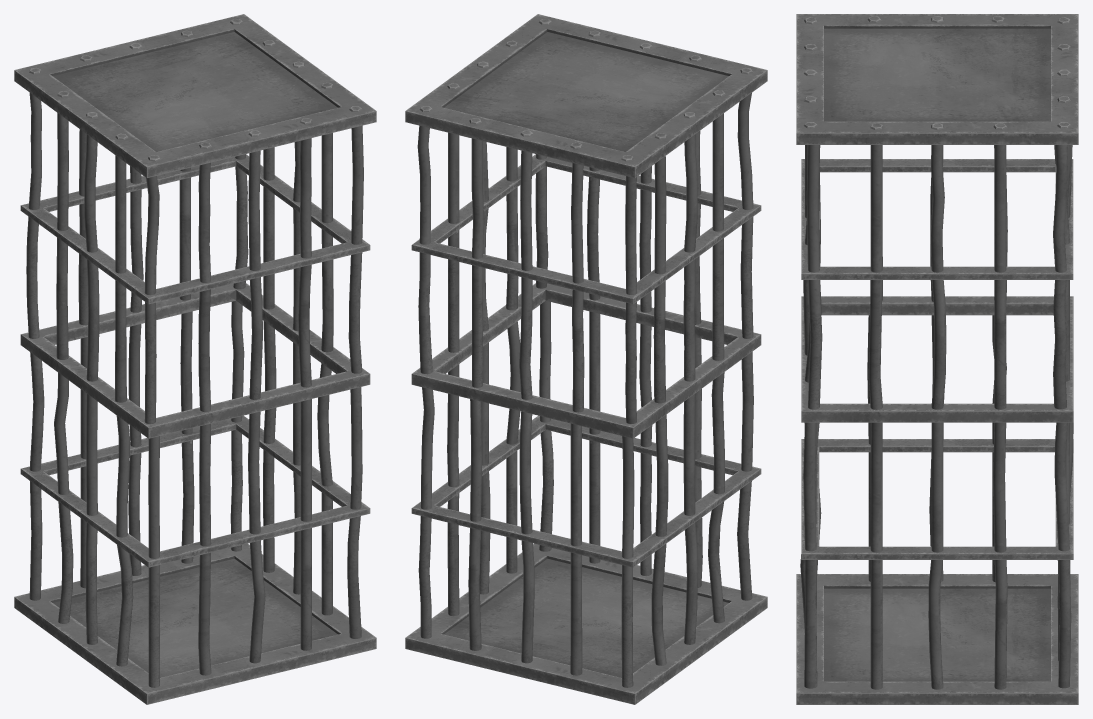
File: cage_metal_04.fbx
The picture shows the model from 3 angles, left to right: view 1: azimuth 30°, elevation 25°; view 2: azimuth 150°, elevation 25°; view 3: azimuth 270°, elevation 25°; orthographic projection. The views are drawn at different scales.
Visible parts, largest first — view 1: cage_metal_04; view 2: cage_metal_04; view 3: cage_metal_04.
Part boxes in pixels (left/top/right/bottom): cage_metal_04: left=14, top=14, right=376, bottom=704; cage_metal_04: left=405, top=14, right=767, bottom=704; cage_metal_04: left=796, top=14, right=1078, bottom=704.
Bounding box in the file's own units: 224 × 503 × 224.
